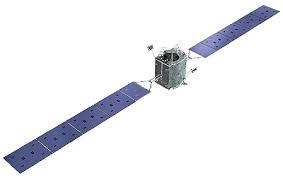body: (153, 45, 188, 92)
solar: (3, 79, 153, 175), (187, 0, 283, 60)
thruster: (172, 52, 180, 62)
